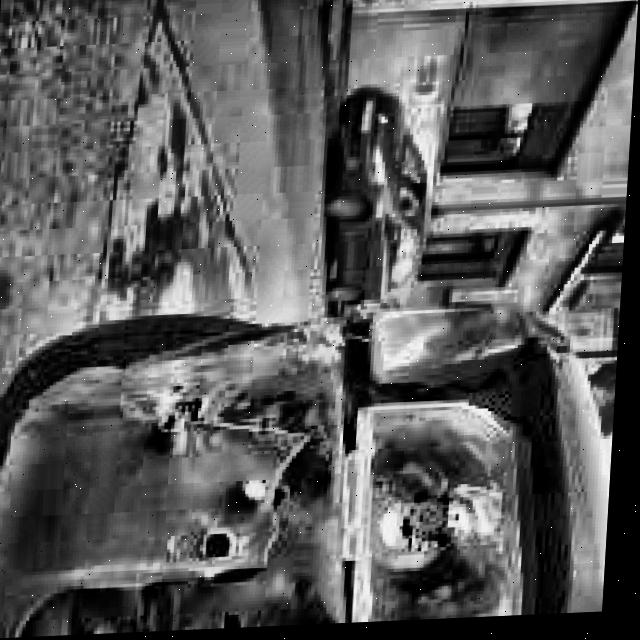head_lamp: (347, 298, 546, 622)
